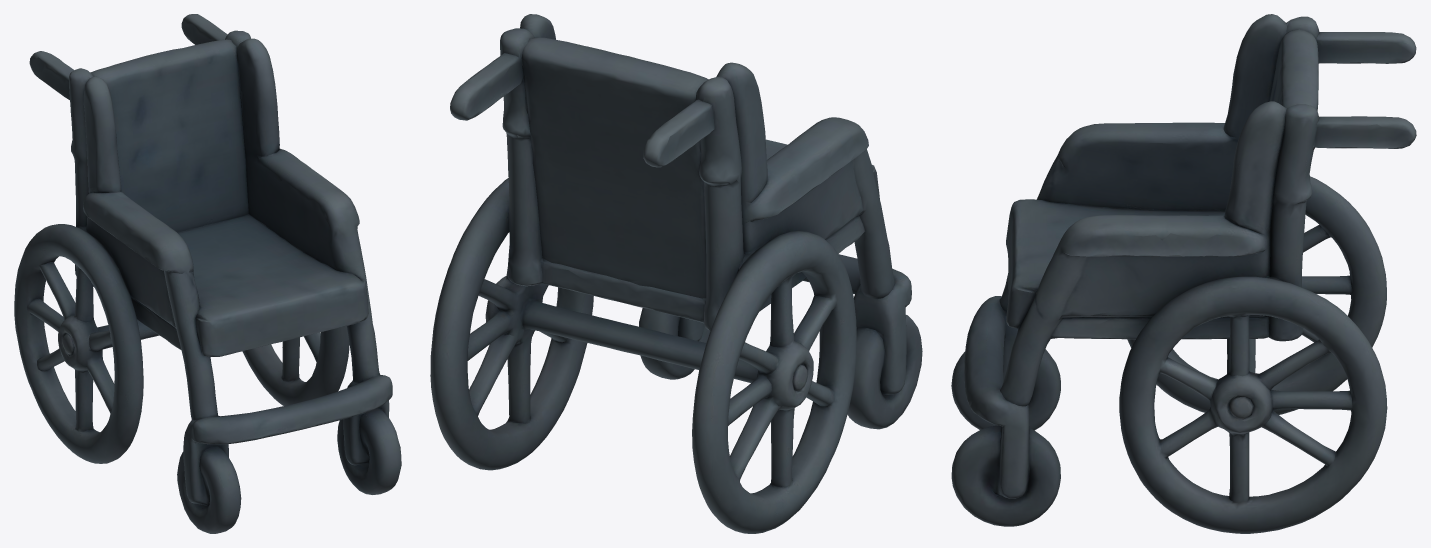
Rendered from wheelchair.glb.
The picture shows the model from 3 angles, left to right: view 1: azimuth 30°, elevation 25°; view 2: azimuth 150°, elevation 25°; view 3: azimuth 270°, elevation 25°; orthographic projection. The views are drawn at different scales.
Visible parts, largest first — view 1: Mesh; view 2: Mesh; view 3: Mesh.
Part boxes in pixels (x1,y1,x2,y2): Mesh: [14, 14, 401, 533]; Mesh: [430, 14, 922, 533]; Mesh: [951, 14, 1416, 533].
Size of the model in its own units: 1.31 by 1.9 by 1.9.
1 material, 1 textured.
